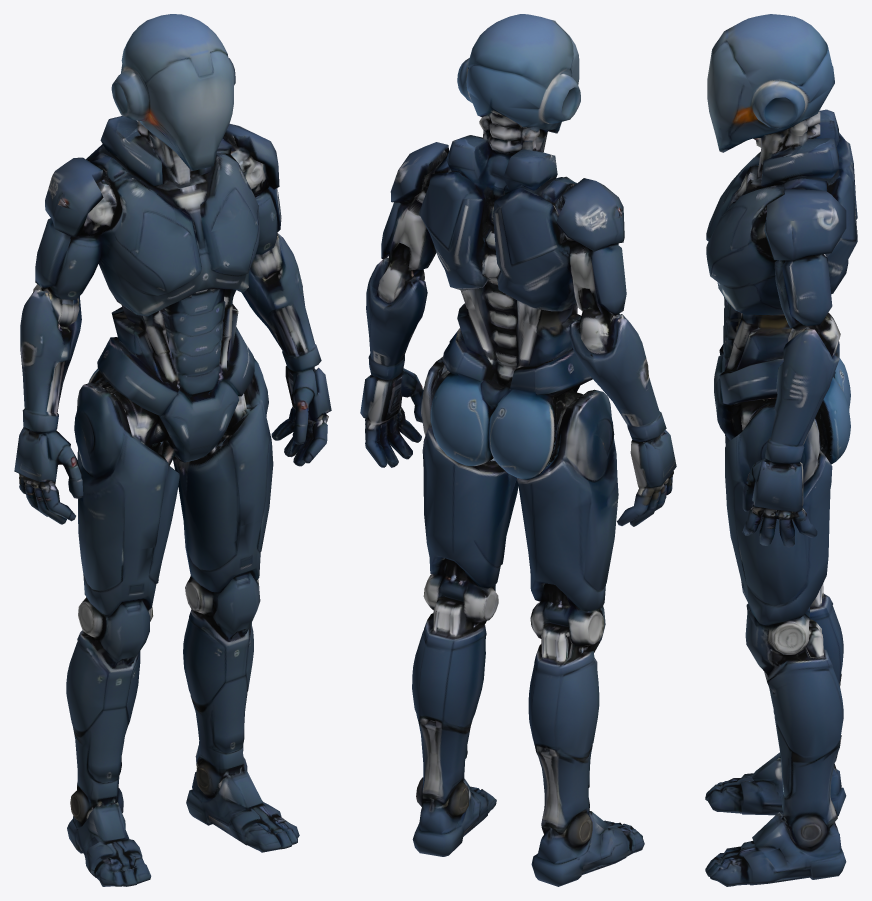
Rendered from robot.glb.
The picture shows the model from 3 angles, left to right: view 1: azimuth 30°, elevation 25°; view 2: azimuth 150°, elevation 25°; view 3: azimuth 270°, elevation 25°; orthographic projection.
Visible parts, largest first — view 1: Mesh_0.001; view 2: Mesh_0.001; view 3: Mesh_0.001.
Part boxes in pixels (x1,y1,x2,y2): Mesh_0.001: [14, 14, 331, 886]; Mesh_0.001: [360, 14, 676, 886]; Mesh_0.001: [705, 14, 857, 886].
Size of the model in its own units: 0.7626 by 2 by 0.335.
Materials: 1 (1 with a texture image).
